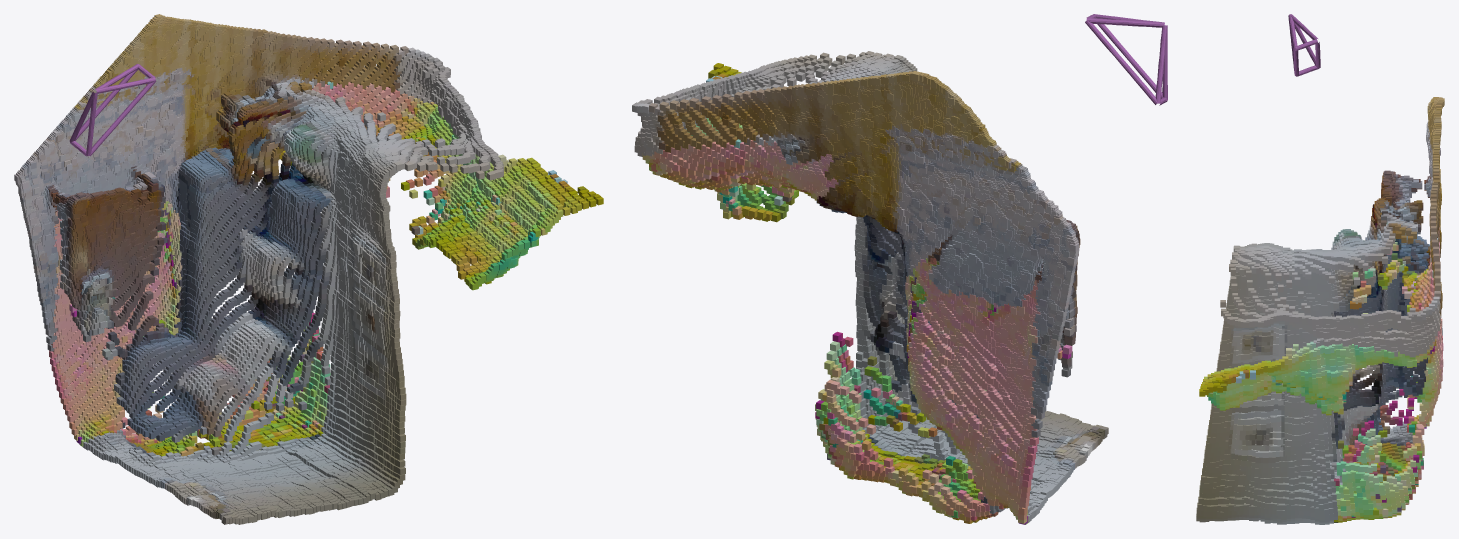
File: pred_3-compressed.glb
3 renders of one model, left to right at view 1: azimuth 30°, elevation 25°; view 2: azimuth 150°, elevation 25°; view 3: azimuth 270°, elevation 25°, orthographic. The views are drawn at different scales.
Bounding box in the file's own units: 4.33 × 3.87 × 2.15.
